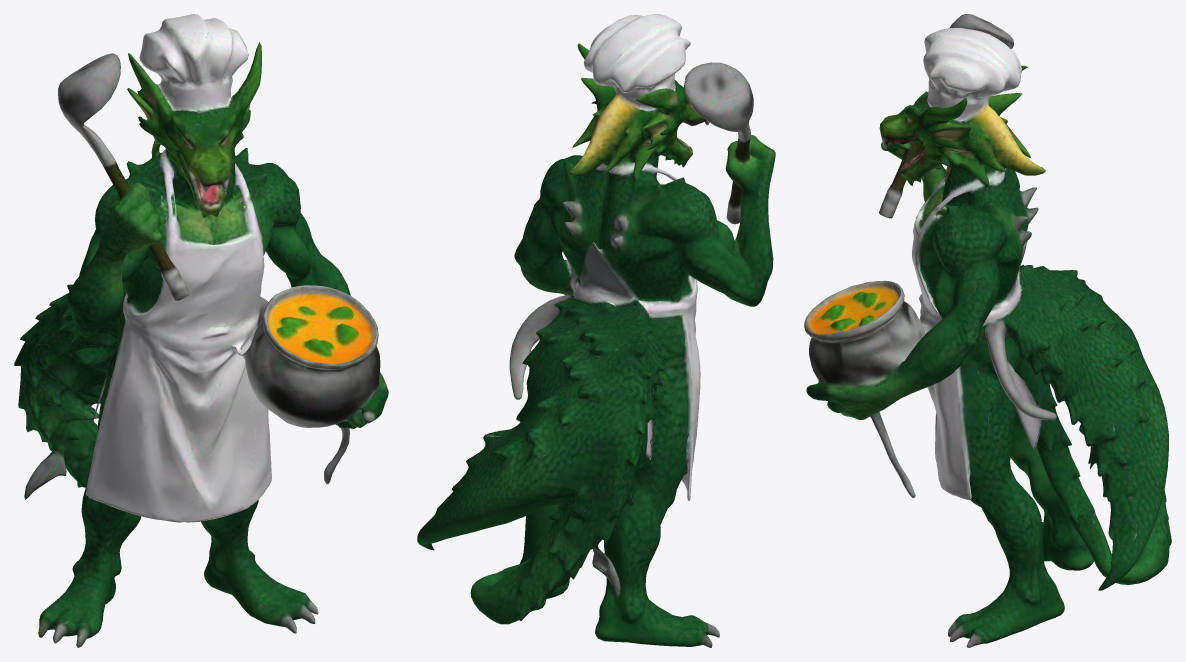
Rendered from agatha_boris.glb.
The picture shows the model from 3 angles, left to right: view 1: azimuth 30°, elevation 25°; view 2: azimuth 150°, elevation 25°; view 3: azimuth 270°, elevation 25°; orthographic projection. The views are drawn at different scales.
Bounding box in the file's own units: 0.4222 × 0.8864 × 0.5247.
1 material, 1 textured.
